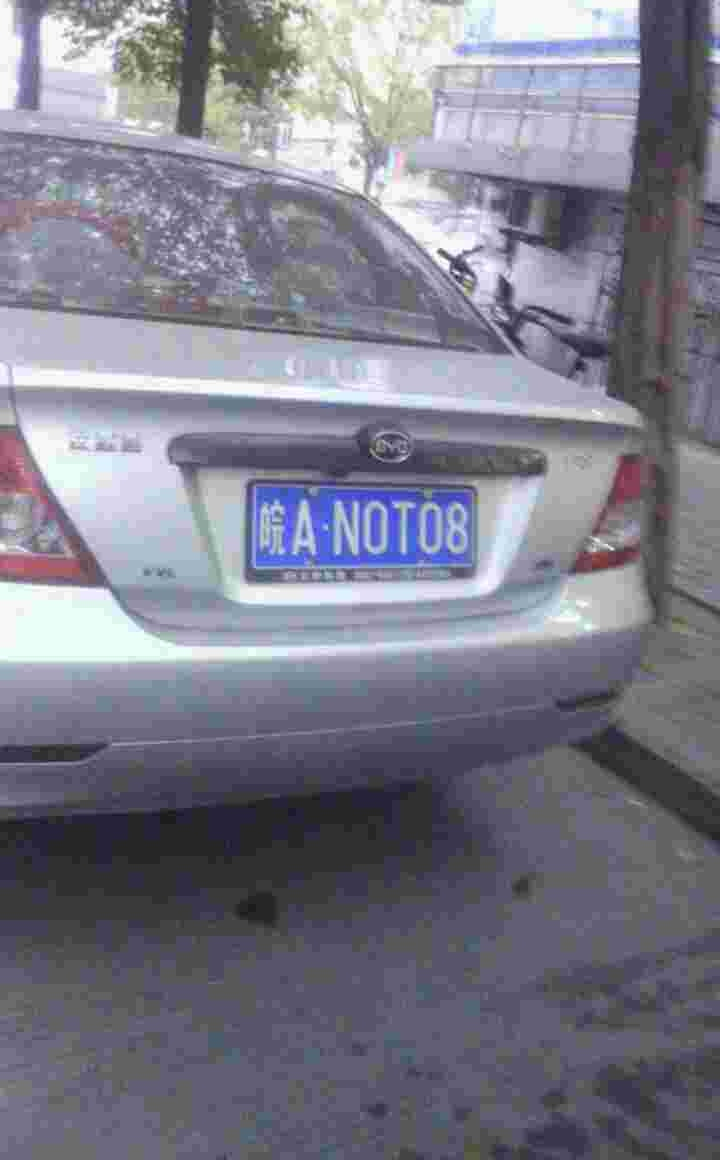plate: (259, 483, 483, 573)
